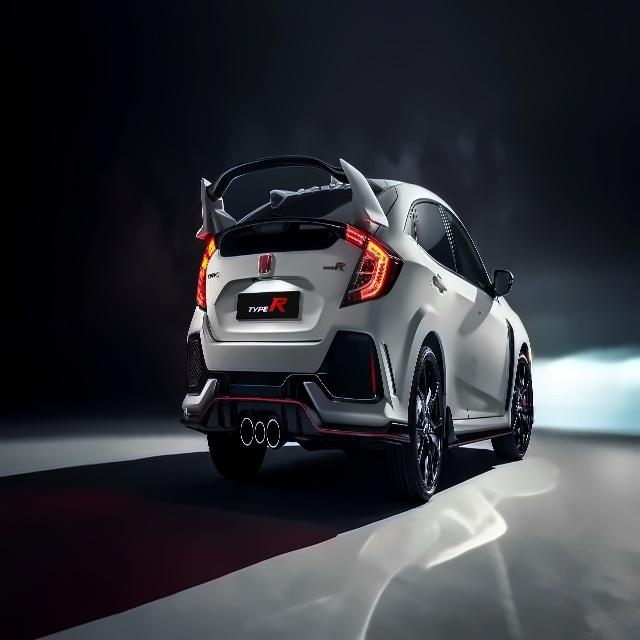Car boot: (197, 215, 370, 348)
Driver-s door - -F-R-: (432, 189, 514, 432)
Fender - -F-R-: (500, 304, 539, 376)
Passenger-s door - -R-R-: (398, 189, 465, 428)
Rear bumper: (165, 309, 429, 457)
Rear light - -L-: (192, 234, 221, 315)
Rear light - -R-: (335, 222, 405, 309)
Side bumper - -R-: (442, 399, 521, 450)
Side mirror - -R-: (487, 264, 515, 302)
